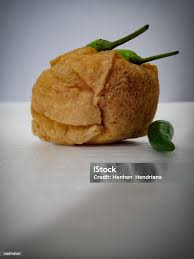Tahu goreng: (27, 47, 166, 147)
